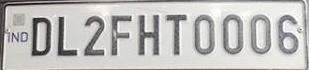character: (137, 12, 160, 57), (110, 13, 133, 56), (193, 13, 216, 55), (165, 12, 187, 55), (277, 14, 300, 55), (222, 12, 244, 54), (250, 12, 272, 54), (57, 15, 79, 56), (83, 15, 105, 56), (31, 16, 52, 56)
